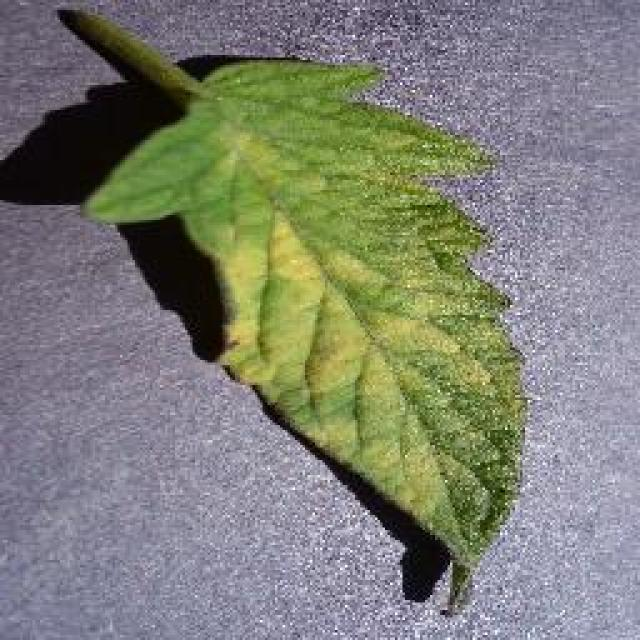leaf mold: (67, 8, 525, 614)
